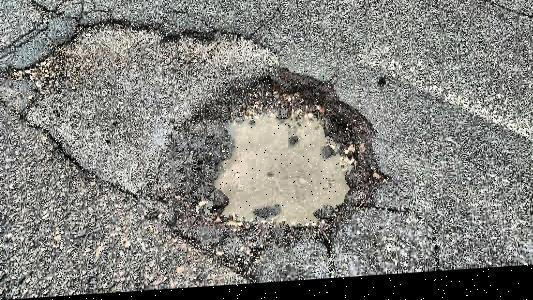pothole: (188, 62, 385, 254)
